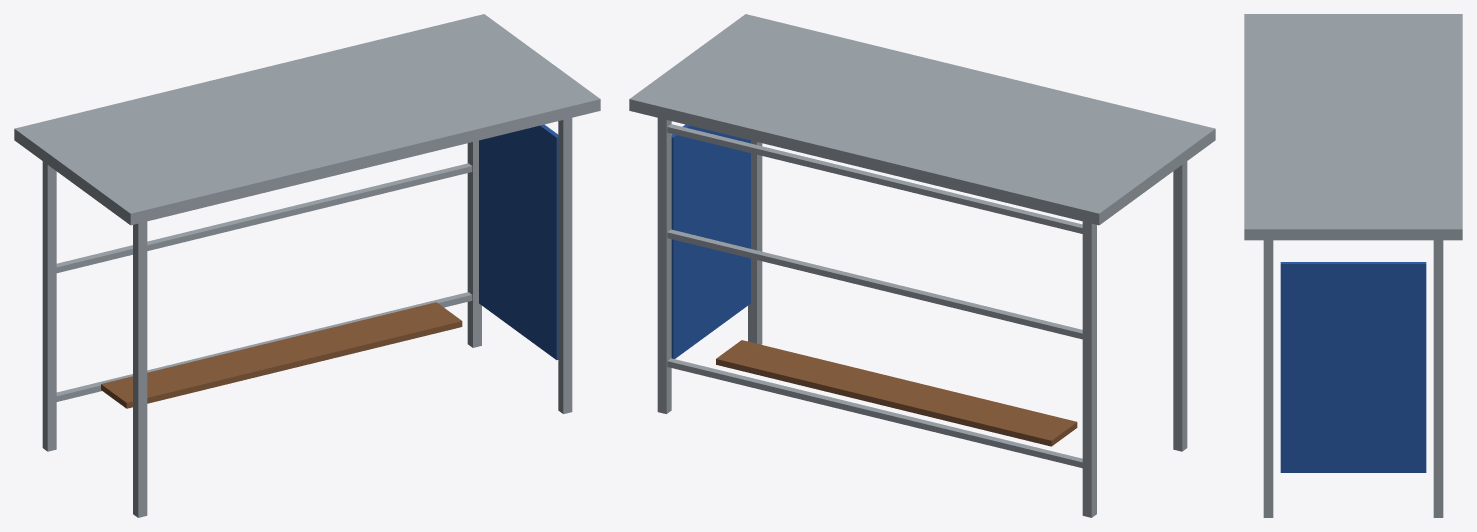
The model's file is BusStopShelter.glb.
3 renders of one model, left to right at view 1: azimuth 30°, elevation 25°; view 2: azimuth 150°, elevation 25°; view 3: azimuth 270°, elevation 25°, orthographic. The views are drawn at different scales.
Visible parts, largest first — view 1: BusStopShelter_Metal, BusStopShelter_AdPanel, BusStopShelter_Wood; view 2: BusStopShelter_Metal, BusStopShelter_AdPanel, BusStopShelter_Wood; view 3: BusStopShelter_Metal, BusStopShelter_AdPanel.
Part boxes in pixels (bbox=[...]): BusStopShelter_Metal: bbox=[14, 14, 600, 517]; BusStopShelter_AdPanel: bbox=[479, 124, 558, 360]; BusStopShelter_Wood: bbox=[101, 302, 462, 408]; BusStopShelter_Metal: bbox=[629, 14, 1215, 517]; BusStopShelter_AdPanel: bbox=[671, 124, 750, 358]; BusStopShelter_Wood: bbox=[716, 340, 1077, 446]; BusStopShelter_Metal: bbox=[1244, 14, 1462, 517]; BusStopShelter_AdPanel: bbox=[1280, 262, 1426, 472].
Bounding box in the file's own units: 4.2 × 2.7 × 1.8.
